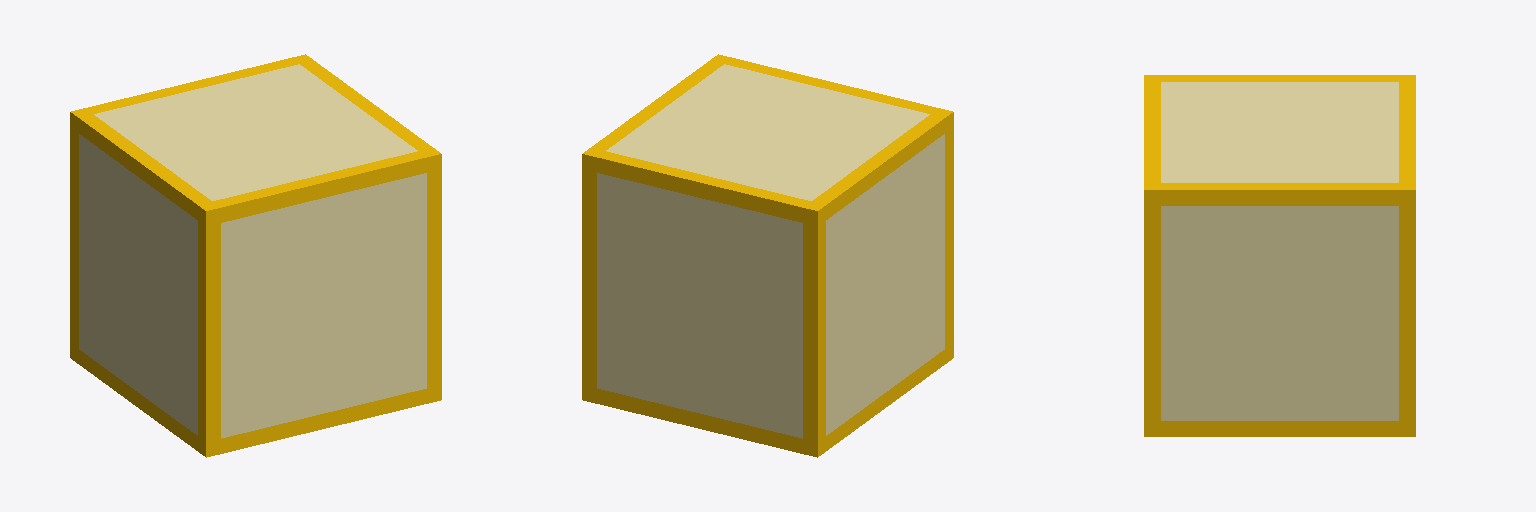
The picture shows the model from 3 angles: view 1: azimuth 30°, elevation 25°; view 2: azimuth 150°, elevation 25°; view 3: azimuth 270°, elevation 25°; orthographic projection.
Visible parts, largest first — view 1: cube; view 2: cube; view 3: cube.
Part boxes in pixels (bbox=[...]): cube: bbox=[70, 54, 441, 457]; cube: bbox=[582, 54, 953, 457]; cube: bbox=[1144, 75, 1415, 436].
Size of the model in its own units: 0.25 by 0.25 by 0.25.
Materials: 1 (1 with a texture image).